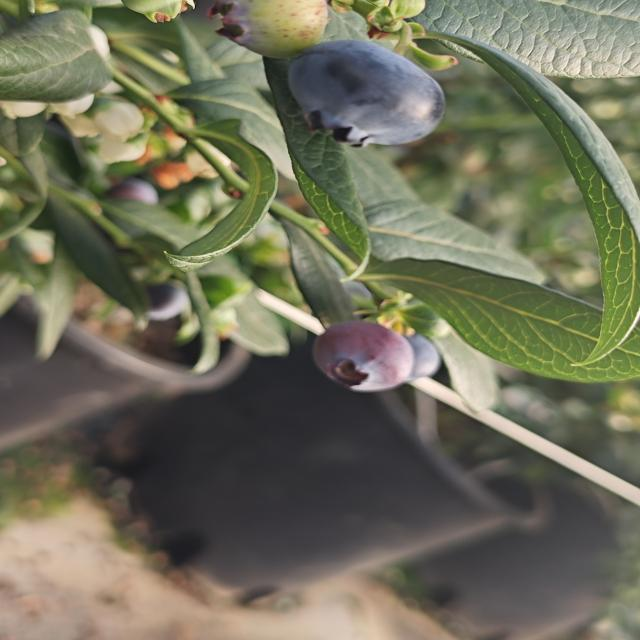ripe: (285, 39, 448, 148), (300, 313, 416, 395), (392, 330, 449, 387)
